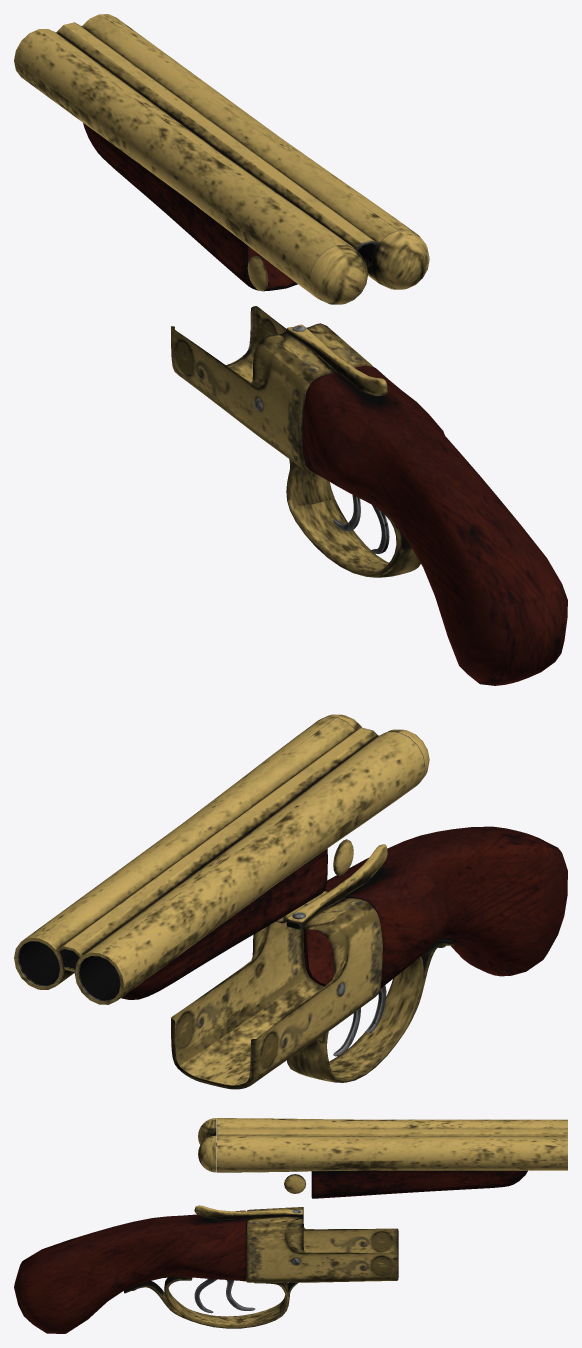
3 views of the same model, one above another, from view 1: azimuth 30°, elevation 25°; view 2: azimuth 150°, elevation 25°; view 3: azimuth 270°, elevation 25° (orthographic). The views are drawn at different scales.
Parts seen in each view (by area): view 1: Body, Barrels; view 2: Body, Barrels; view 3: Body, Barrels.
Boxes of the visible parts, bbox=[...] form: Body: bbox=[171, 306, 567, 685]; Barrels: bbox=[14, 14, 429, 304]; Body: bbox=[171, 826, 567, 1089]; Barrels: bbox=[14, 714, 429, 1004]; Body: bbox=[14, 1205, 398, 1333]; Barrels: bbox=[198, 1118, 567, 1198].
Bounding box in the file's own units: 0.1179 × 0.3342 × 0.8306.
1 material, 1 textured.
